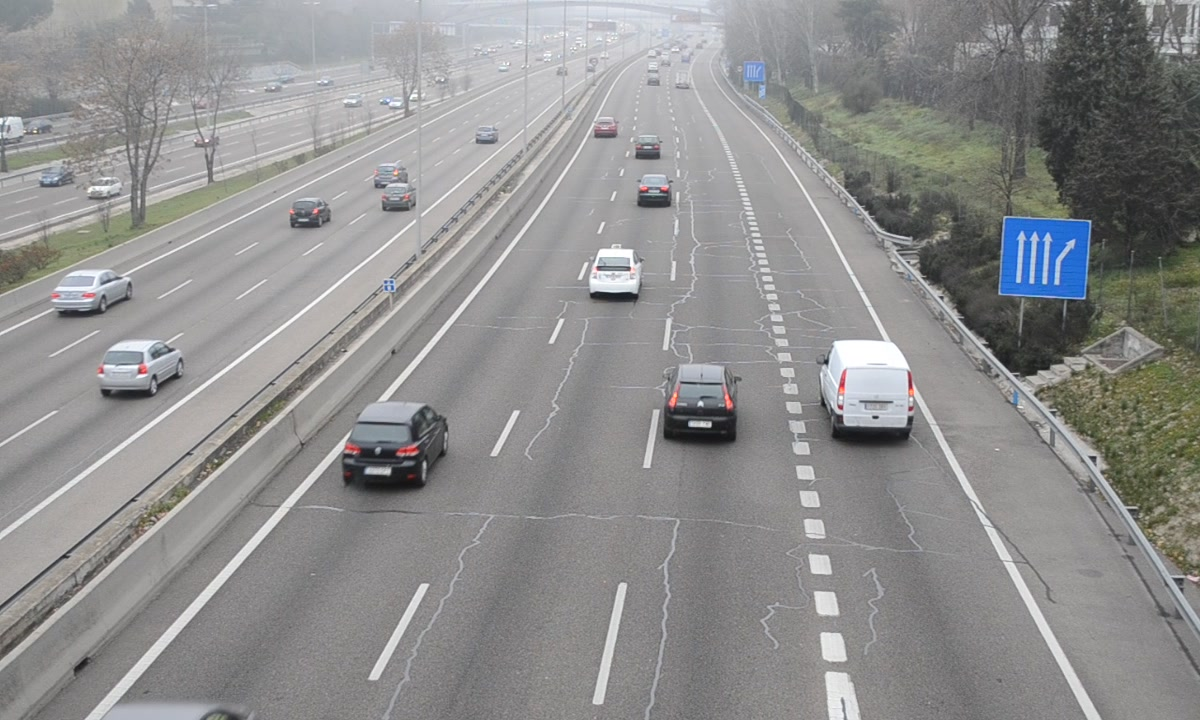car: (337, 404, 447, 489), (666, 365, 735, 440), (588, 248, 640, 298), (636, 173, 673, 209), (634, 132, 662, 161), (593, 117, 615, 139)
van: (823, 340, 914, 440)
